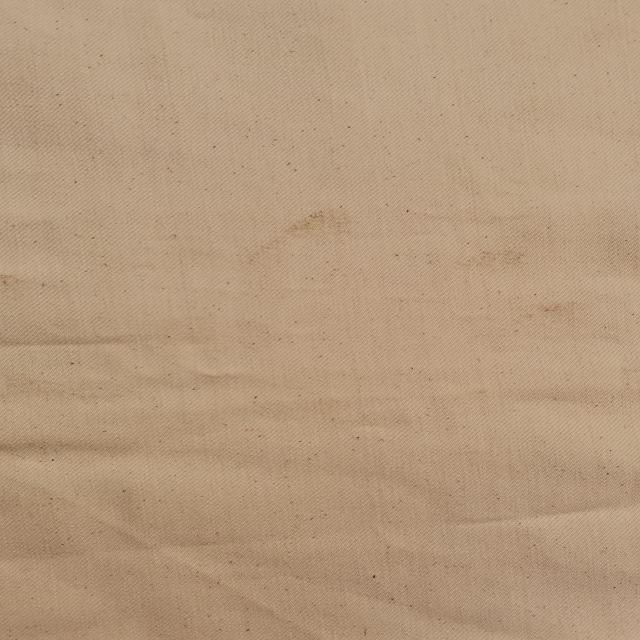taaaches: (278, 206, 384, 276), (457, 246, 533, 272), (538, 297, 585, 320), (1, 272, 32, 290)
